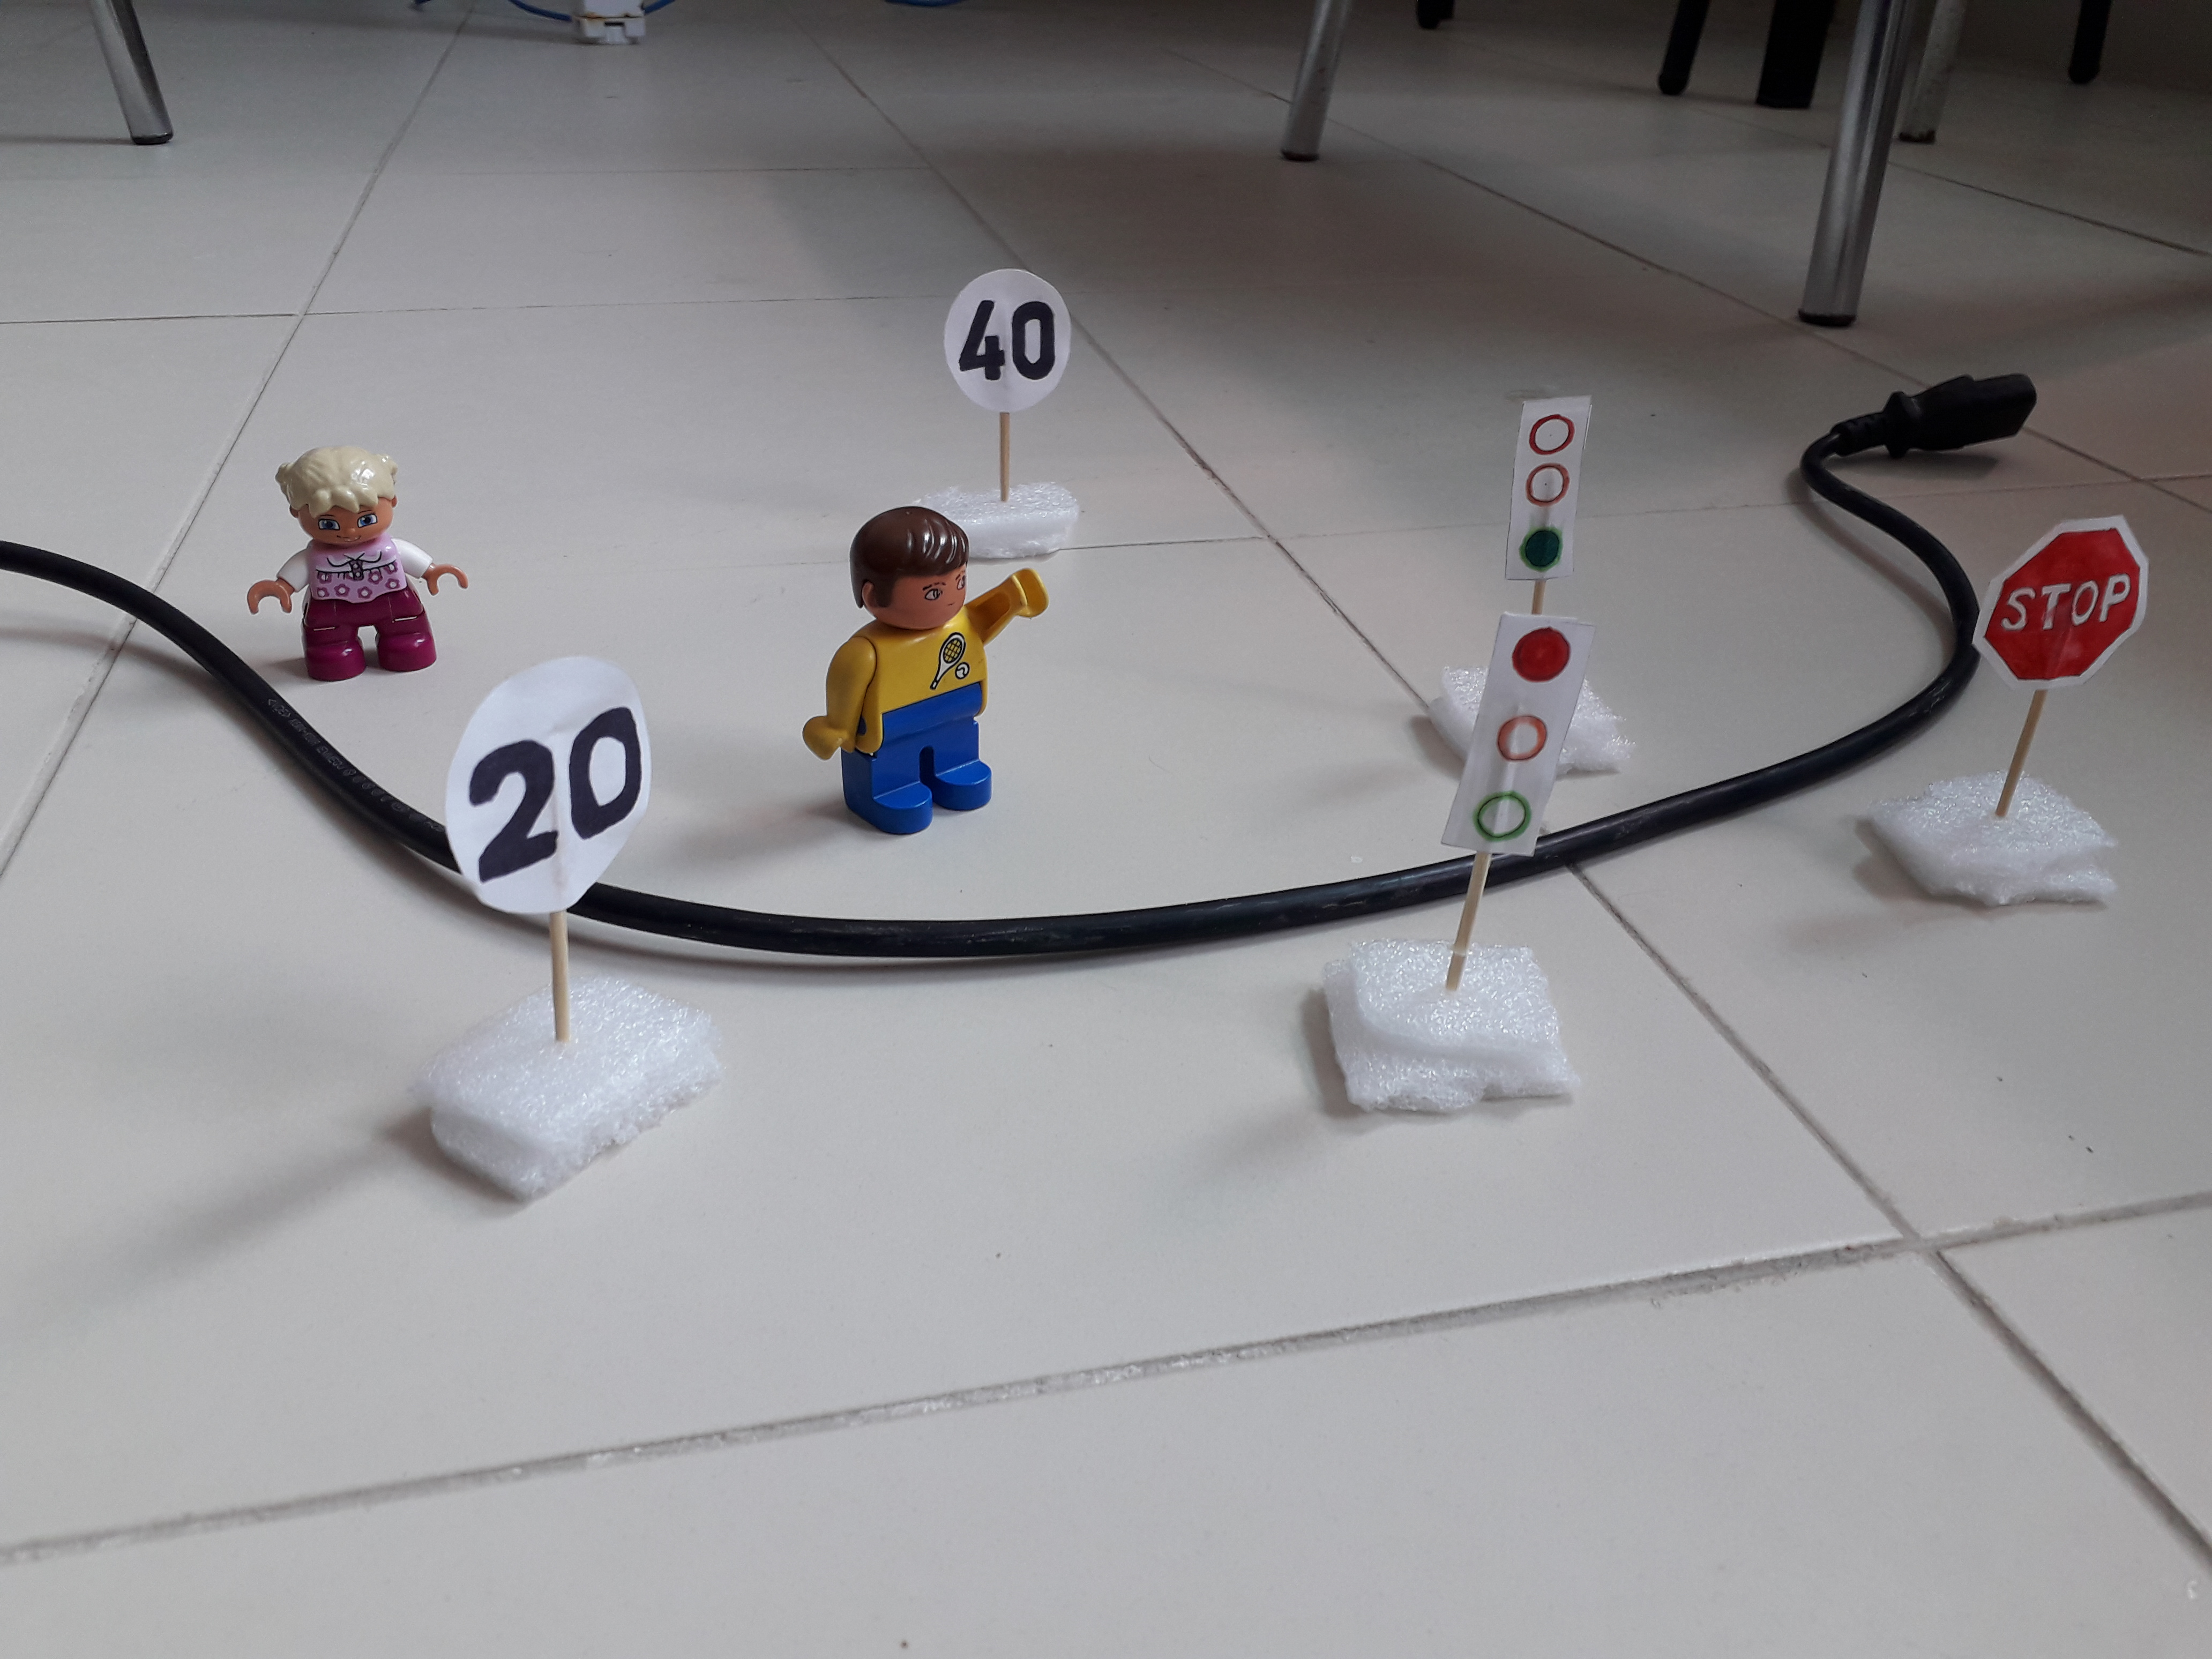20_sign: (444, 655, 658, 916)
40_sign: (936, 265, 1074, 416)
green_light: (1515, 385, 1607, 584)
person: (793, 495, 1051, 836), (240, 439, 480, 686)
red_light: (1449, 604, 1589, 870)
stop_sign: (1970, 513, 2148, 704)
